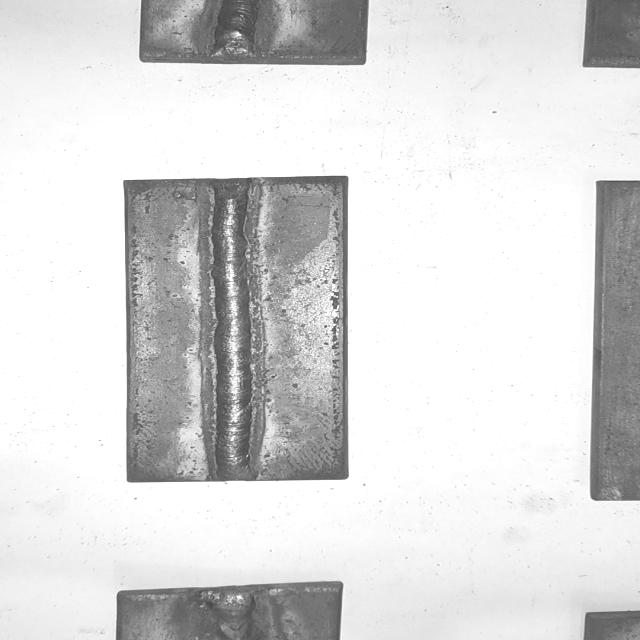Defect: (199, 588, 263, 640)
Good Weld: (211, 181, 256, 481), (214, 0, 262, 58)
